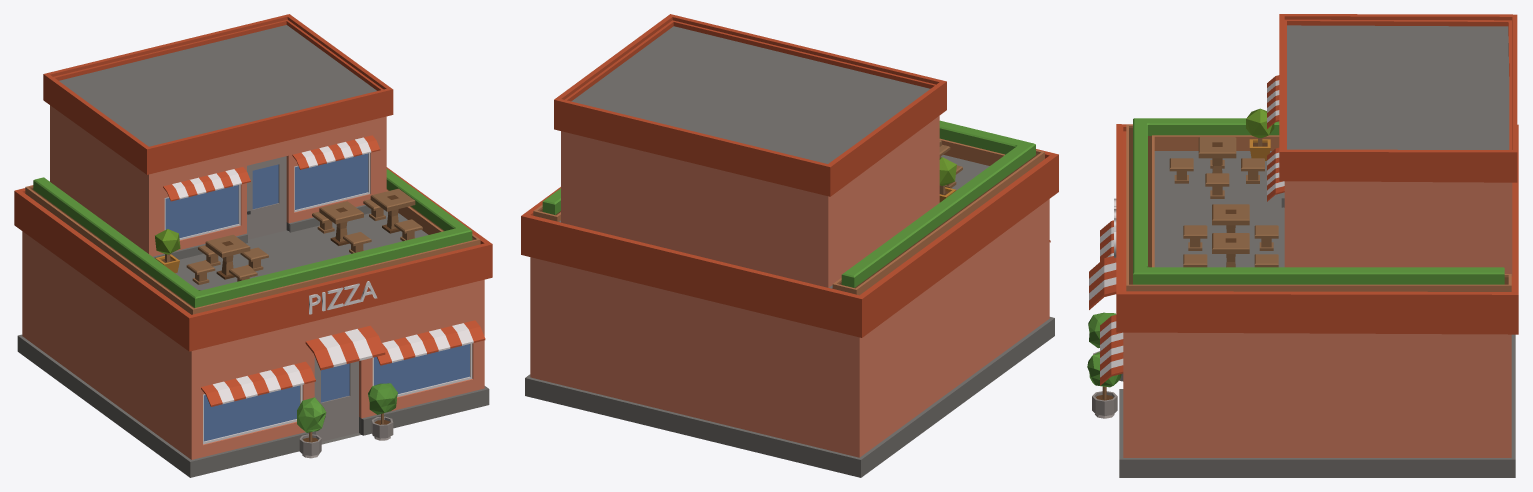
The model's file is Pizza.fbx.
3 views of the same model, side by side, from view 1: azimuth 30°, elevation 25°; view 2: azimuth 150°, elevation 25°; view 3: azimuth 270°, elevation 25° (orthographic). The views are drawn at different scales.
Parts seen in each view (by area): view 1: Pizza; view 2: Pizza; view 3: Pizza.
Boxes of the visible parts, box(x1,y1,x2,y2) form: Pizza: box(14, 14, 492, 477); Pizza: box(521, 14, 1058, 477); Pizza: box(1087, 14, 1518, 477).
Size of the model in its own units: 14.11 by 12.06 by 15.13.
